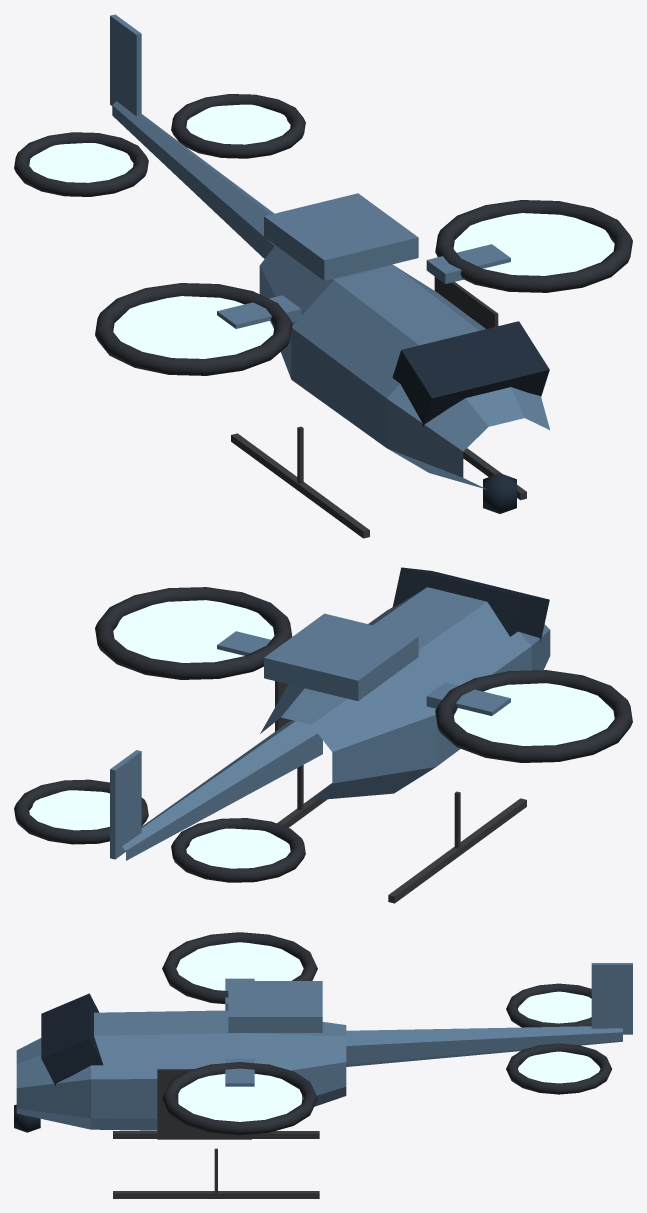
File: veh_air_heli_transport_a10.glb
The picture shows the model from 3 angles, top to bottom: view 1: azimuth 30°, elevation 25°; view 2: azimuth 150°, elevation 25°; view 3: azimuth 270°, elevation 25°; orthographic projection. The views are drawn at different scales.
Parts seen in each view (by area): view 1: body, rotor_r, rotor_l, rotor_aft_l, rotor_aft_r, door; view 2: body, rotor_r, rotor_l, rotor_aft_r, rotor_aft_l; view 3: body, rotor_l, rotor_r, rotor_aft_l, rotor_aft_r, door.
Part boxes in pixels (x1=…): body: x1=110, y1=14, x2=549, y2=538; rotor_r: x1=95, y1=283, x2=292, y2=375; rotor_l: x1=435, y1=200, x2=632, y2=292; rotor_aft_l: x1=171, y1=94, x2=305, y2=158; rotor_aft_r: x1=14, y1=132, x2=148, y2=196; door: x1=434, y1=276, x2=498, y2=328; body: x1=110, y1=567, x2=550, y2=903; rotor_r: x1=435, y1=670, x2=632, y2=762; rotor_l: x1=95, y1=587, x2=292, y2=679; rotor_aft_r: x1=171, y1=818, x2=305, y2=882; rotor_aft_l: x1=14, y1=779, x2=148, y2=844; body: x1=14, y1=963, x2=632, y2=1198; rotor_l: x1=162, y1=1062, x2=317, y2=1135; rotor_r: x1=162, y1=932, x2=317, y2=1003; rotor_aft_l: x1=506, y1=1043, x2=611, y2=1094; rotor_aft_r: x1=506, y1=983, x2=591, y2=1027; door: x1=157, y1=1069, x2=251, y2=1139.
Size of what is drawn, in the model's own units: 7.84 by 3.8 by 10.48.
